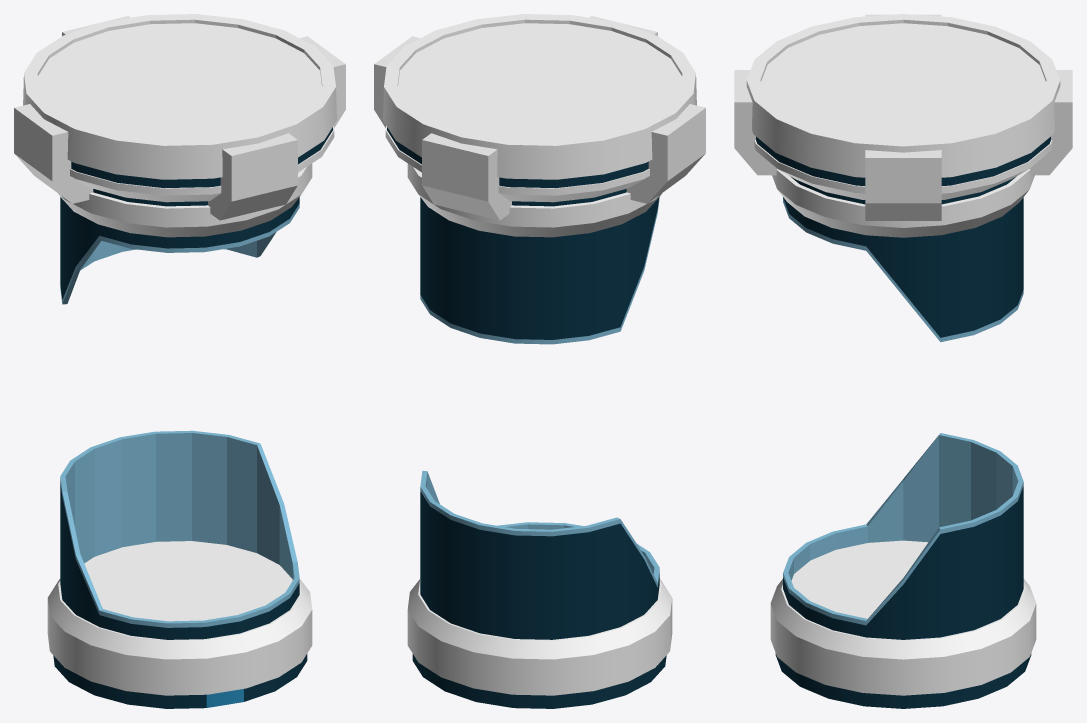
The model's file is Props_Pod.005.fbx.
3 views of the same model, side by side, from view 1: azimuth 30°, elevation 25°; view 2: azimuth 150°, elevation 25°; view 3: azimuth 270°, elevation 25° (orthographic).
Parts seen in each view (by area): view 1: Props_Pod.005; view 2: Props_Pod.005; view 3: Props_Pod.005.
Boxes of the visible parts, x1,y1,x2,y2 form: Props_Pod.005: (14,14,345,708); Props_Pod.005: (374,14,705,708); Props_Pod.005: (734,14,1072,708).
Bounding box in the file's own units: 1.81 × 3.39 × 1.81.
